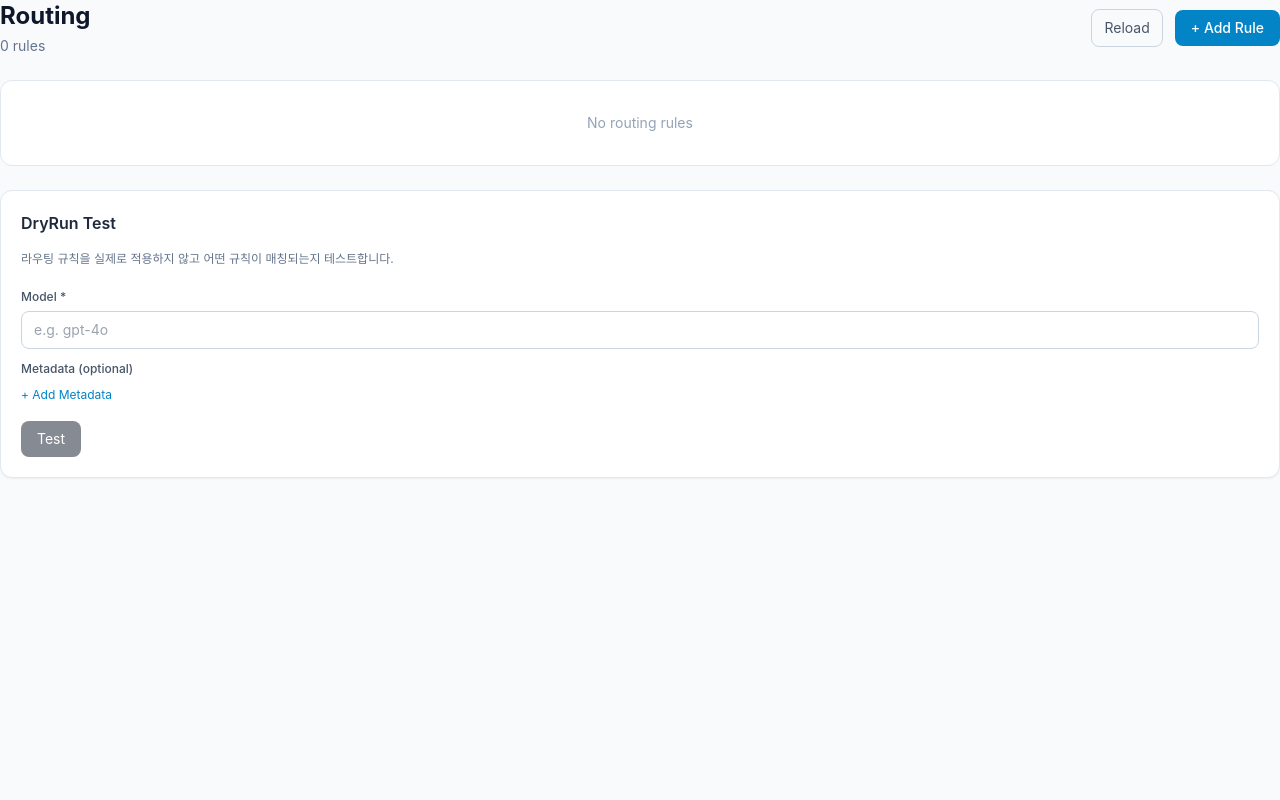
Scenario: RoutingPage › TC-14: direct strategy → Add Target button is disabled
Click the button "+ Add Rule" at (1227, 28), box [1175, 10, 1279, 46]
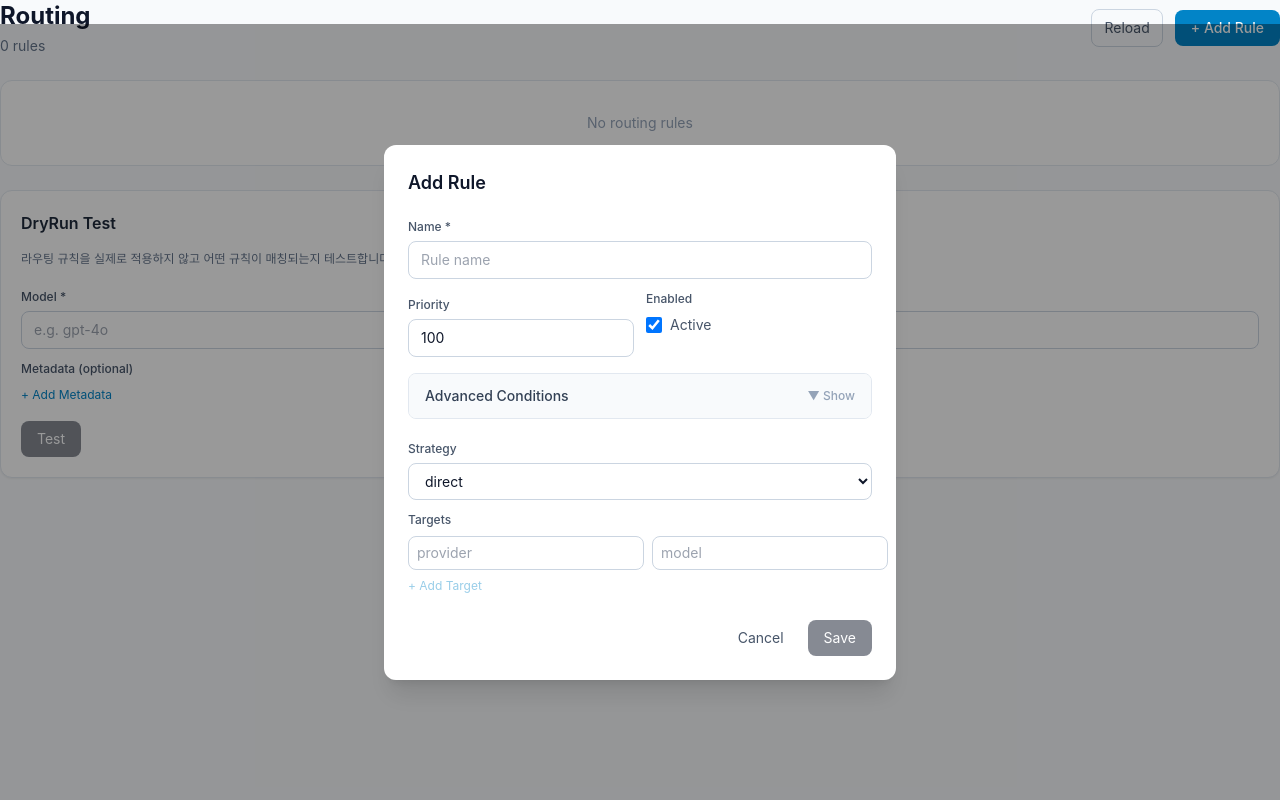
Result: the button "+ Add Target" is disabled at [408, 578, 482, 594]
